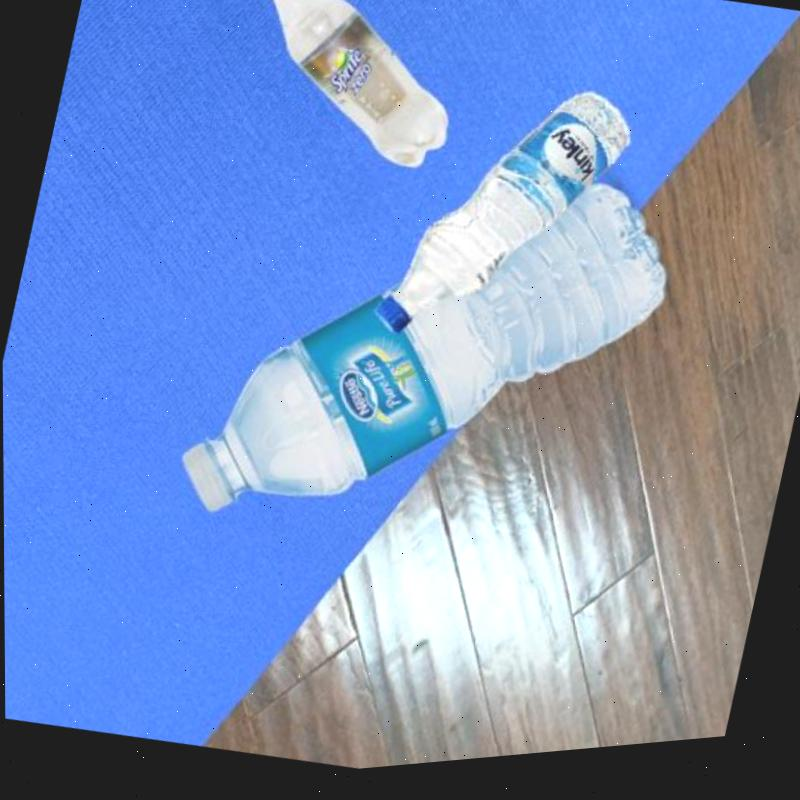botella: (165, 103, 691, 611), (368, 61, 640, 383), (223, 0, 481, 196)
